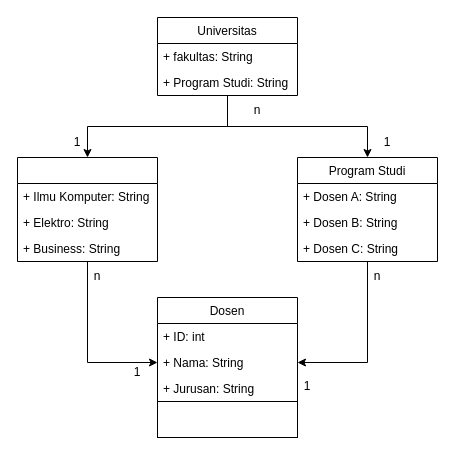
This 455x455 diagram has some shape labels left out. The shapes that lost their labels are listed below. From the top down, each one's box as (x1, y1, x2, y2) in pixels, then its label:
(16, 156, 158, 262): Fakultas
(156, 400, 298, 438): mengajar();
